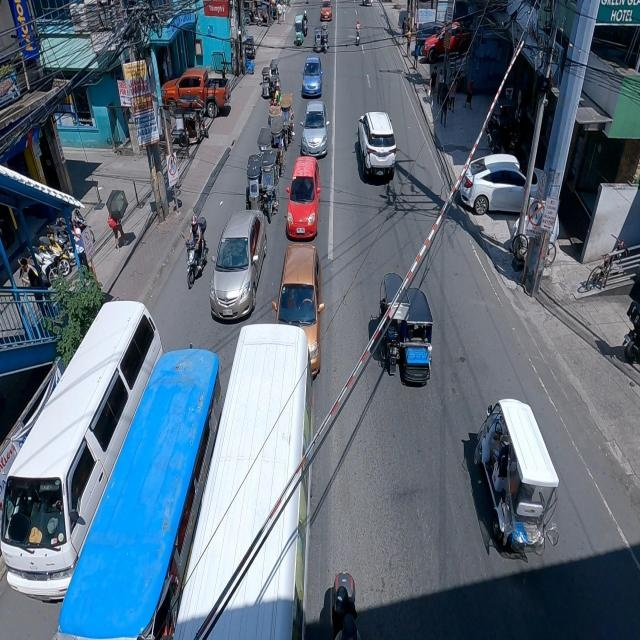Van: (0, 299, 165, 608)
